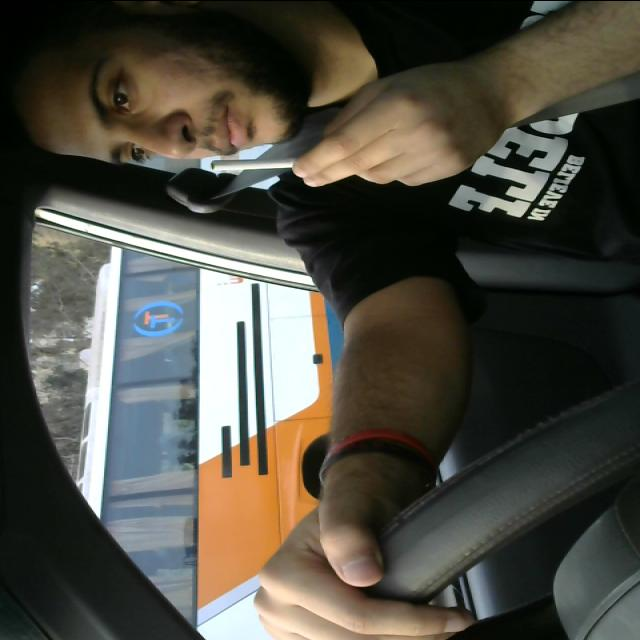smoking: (198, 150, 334, 178)
